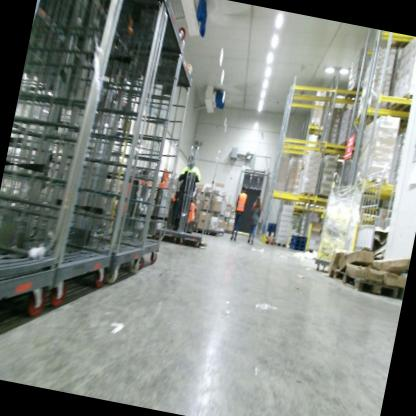pallet: (327, 264, 402, 304), (341, 82, 416, 120), (335, 137, 362, 157), (306, 121, 320, 137), (290, 231, 310, 242), (287, 244, 307, 254), (297, 190, 315, 200), (289, 237, 307, 246), (288, 241, 307, 249), (396, 285, 404, 304), (294, 199, 307, 210), (273, 241, 288, 250), (261, 236, 274, 246), (314, 204, 327, 211), (305, 202, 315, 211)
pallet_truck: (105, 149, 220, 250), (150, 157, 212, 238)
